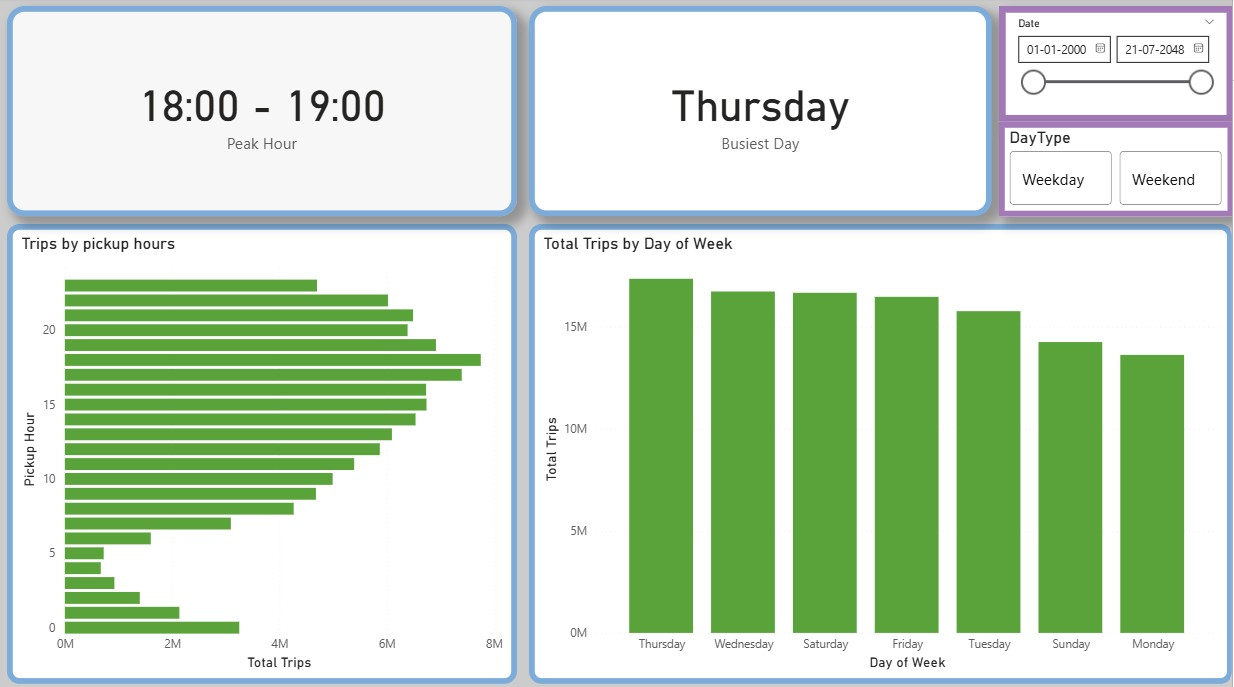

What the dashboard file says about the page in this screenshot:
{"tool":"powerbi","page":{"name":"Demand and Usage Pattern","canvas":[1280,720],"ordinal":1},"visuals":[{"type":"clusteredBarChart","title":"Trips by pickup hours","fields":{"Category":["VW_NYC_GOLD_HOURLY_STATS.PICKUP_HOUR"],"Y":["Sum(VW_NYC_GOLD_HOURLY_STATS.TOTAL_TRIPS)"]},"box":[8.4,262.5,556.5,450.5],"z":0},{"type":"clusteredColumnChart","fields":{"Y":["Sum(VW_NYC_GOLD_DAILY_STATS.TOTAL_TRIPS)"],"Category":["DIM_DATE.DayLongName"]},"box":[573.3,262.5,698.3,450.5],"z":1000},{"type":"card","title":"Pickup Hour","fields":{"Values":["VW_NYC_GOLD_HOURLY_STATS.Peak Hour"]},"box":[8.4,9.5,556.5,241.5],"z":2000},{"type":"card","fields":{"Values":["VW_NYC_GOLD_DAILY_STATS.Busiest Day"]},"box":[573.3,9.5,698.3,241.5],"z":3000}]}

Visuals, with their boxes in screenshot pixels (x1, y1, x2, y2), scaled from the page's 1280x720 canvas onto the 1234x687 screenshot:
"Trips by pickup hours" clusteredBarChart: select_region(8, 250, 545, 680)
clusteredColumnChart - Sum(VW_NYC_GOLD_DAILY_STATS.TOTAL_TRIPS) x DIM_DATE.DayLongName: select_region(553, 250, 1226, 680)
"Pickup Hour" card: select_region(8, 9, 545, 239)
card - VW_NYC_GOLD_DAILY_STATS.Busiest Day: select_region(553, 9, 1226, 239)
